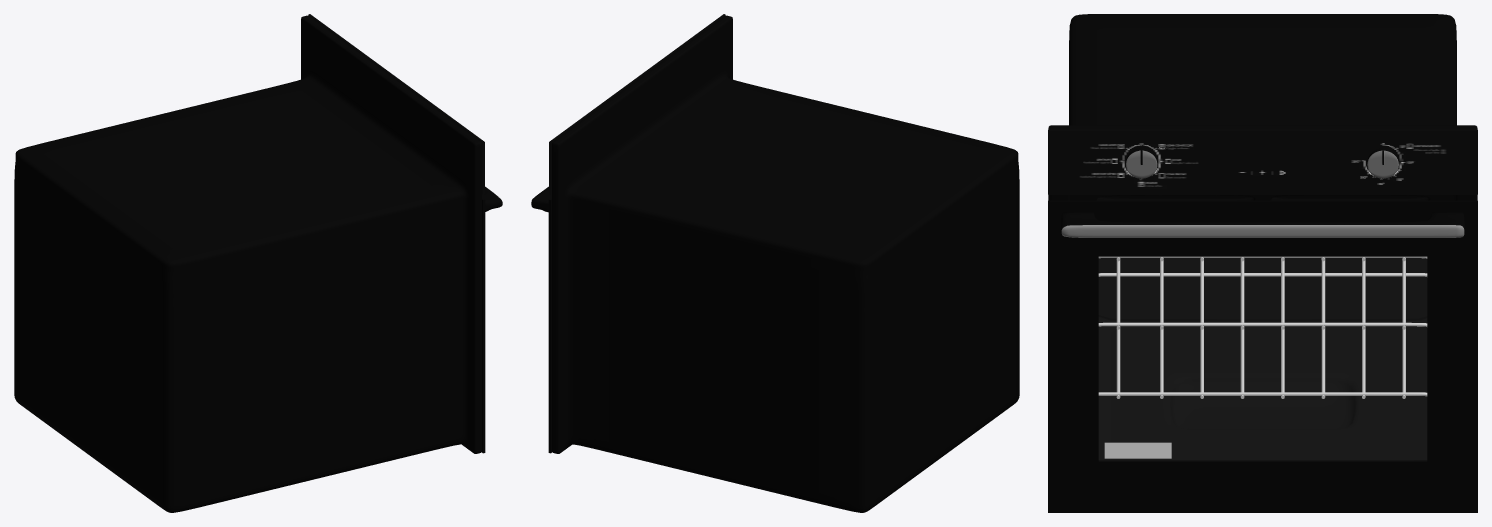
3 renders of one model, left to right at view 1: azimuth 30°, elevation 25°; view 2: azimuth 150°, elevation 25°; view 3: azimuth 270°, elevation 25°, orthographic. The views are drawn at different scales.
Parts seen in each view (by area): view 1: caixa_preto_0, visor_vidro preto_0; view 2: caixa_preto_0, visor_vidro preto_0; view 3: caixa_preto_0, visor_vidro preto_0, botoes_Metallistra_0.
Boxes of the visible parts, x1,y1,x2,y2 form: caixa_preto_0: (14, 15, 502, 512); visor_vidro preto_0: (308, 14, 484, 194); caixa_preto_0: (531, 15, 1019, 512); visor_vidro preto_0: (549, 14, 725, 194); caixa_preto_0: (1048, 14, 1477, 512); visor_vidro preto_0: (1048, 129, 1477, 194); botoes_Metallistra_0: (1126, 150, 1398, 178).
Bounding box in the file's own units: 0.651 × 0.5842 × 0.595.
Materials: 4 (4 with a texture image).
